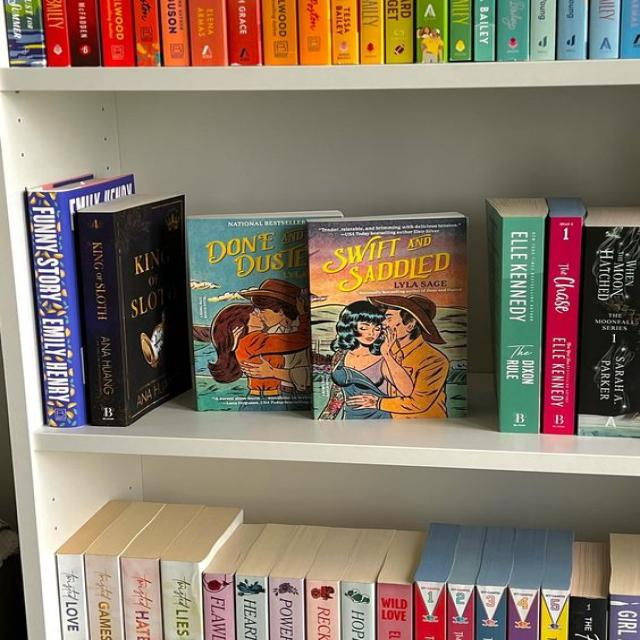book: (578, 226, 640, 439), (27, 192, 81, 426), (75, 212, 126, 425), (498, 216, 545, 433), (544, 217, 583, 435)
